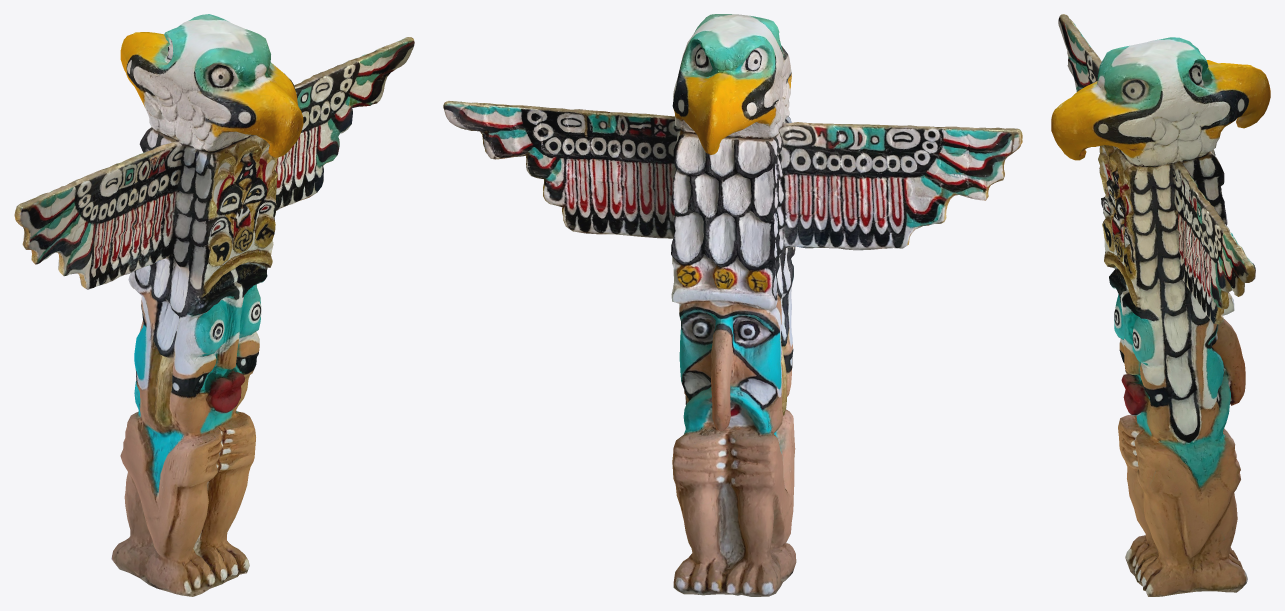
Rendered from totem.glb.
3 views of the same model, side by side, from view 1: azimuth 30°, elevation 25°; view 2: azimuth 150°, elevation 25°; view 3: azimuth 270°, elevation 25° (orthographic). The views are drawn at different scales.
Parts seen in each view (by area): view 1: Object_4; view 2: Object_4; view 3: Object_4.
Boxes of the visible parts, x1,y1,x2,y2 form: Object_4: (14,14,414,596); Object_4: (443,14,1022,596); Object_4: (1051,14,1270,596).
Bounding box in the file's own units: 0.7162 × 0.7658 × 0.2836.
1 material, 1 textured.
